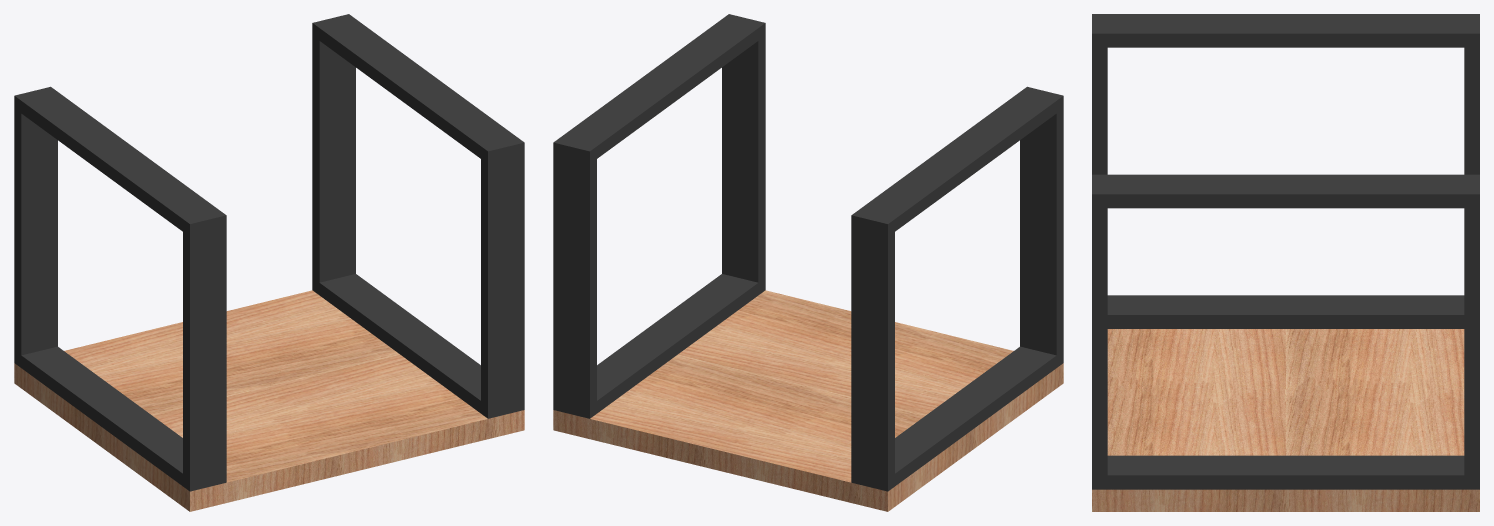
Rendered from stolik-kawowy.glb.
3 renders of one model, left to right at view 1: azimuth 30°, elevation 25°; view 2: azimuth 150°, elevation 25°; view 3: azimuth 270°, elevation 25°, orthographic. The views are drawn at different scales.
Parts seen in each view (by area): view 1: Solid1 (×3); view 2: Solid1 (×3); view 3: Solid1 (×3).
Part boxes in pixels (bbox=[...]): Solid1 (×3): bbox=[14, 14, 524, 511]; Solid1 (×3): bbox=[553, 14, 1063, 511]; Solid1 (×3): bbox=[1092, 14, 1479, 511].
Bounding box in the file's own units: 0.55 × 0.452 × 0.5.
Materials: 2 (1 with a texture image).
